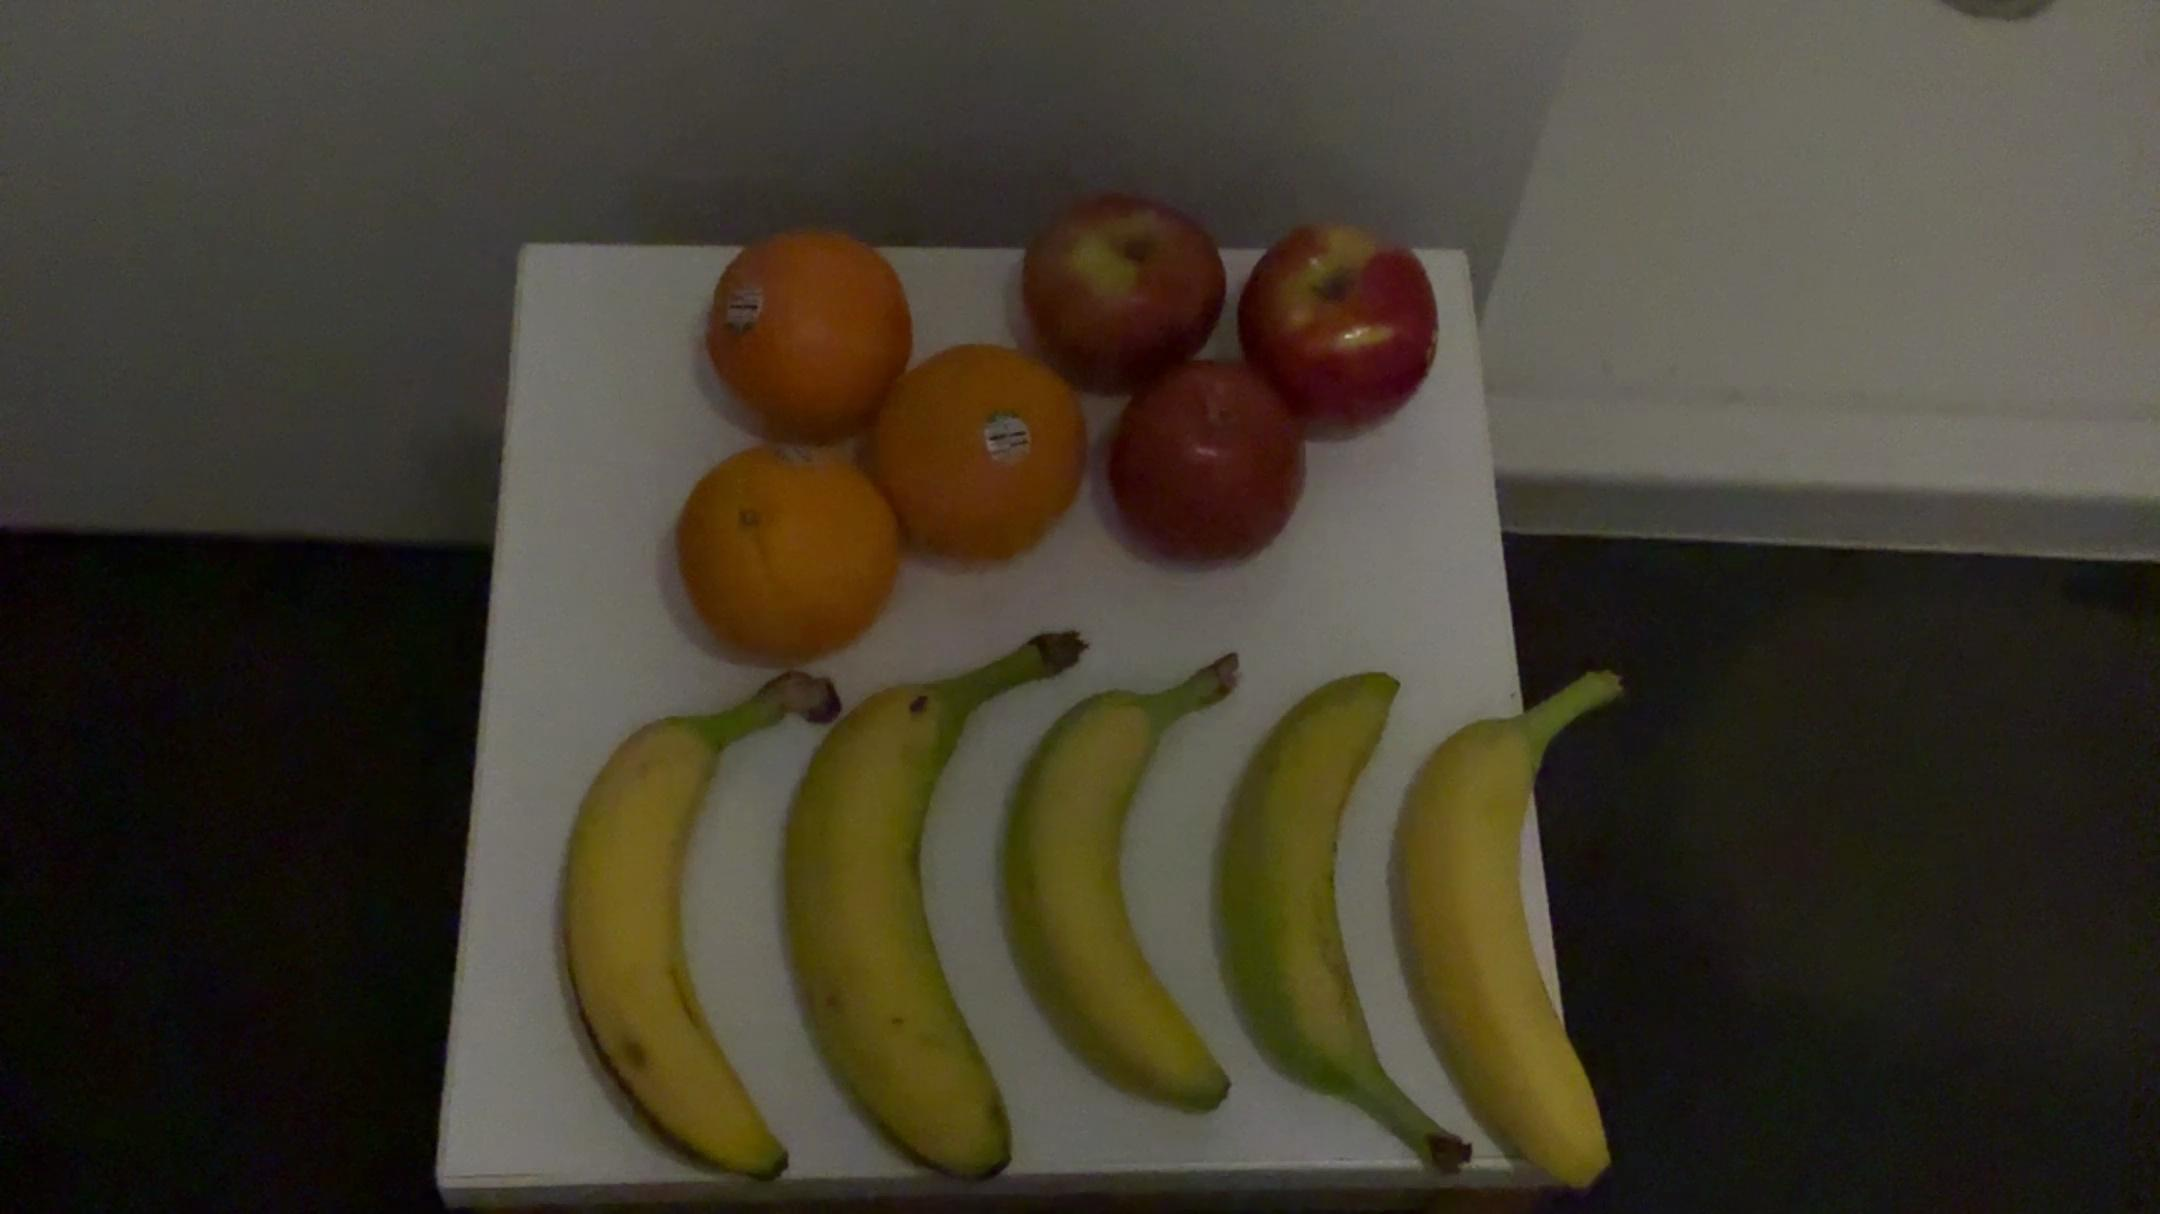apple: (1233, 223, 1433, 438), (1021, 187, 1216, 401), (1107, 364, 1313, 562)
banana: (767, 617, 1068, 1198), (543, 660, 840, 1198), (1205, 666, 1491, 1201), (1395, 643, 1638, 1214), (992, 653, 1258, 1146)
orange: (674, 441, 906, 668), (863, 343, 1084, 579), (688, 220, 902, 454)
